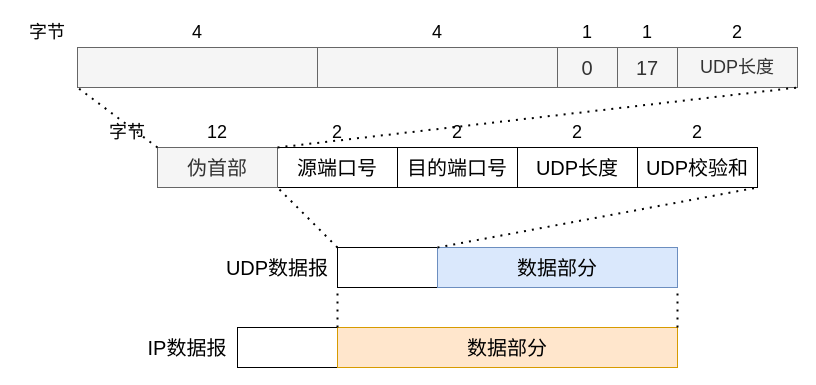
This 816x385 diagram has some shape labels left out. The shapes that lost their labels are listed below. From the top down, each one's box as (x1, y1, x2, y2) in pixels, then its label:
(76, 46, 318, 88): 源IP地址
(316, 46, 558, 88): 目的IP地址
(336, 246, 438, 288): UDP首部
(236, 326, 338, 368): IP首部
